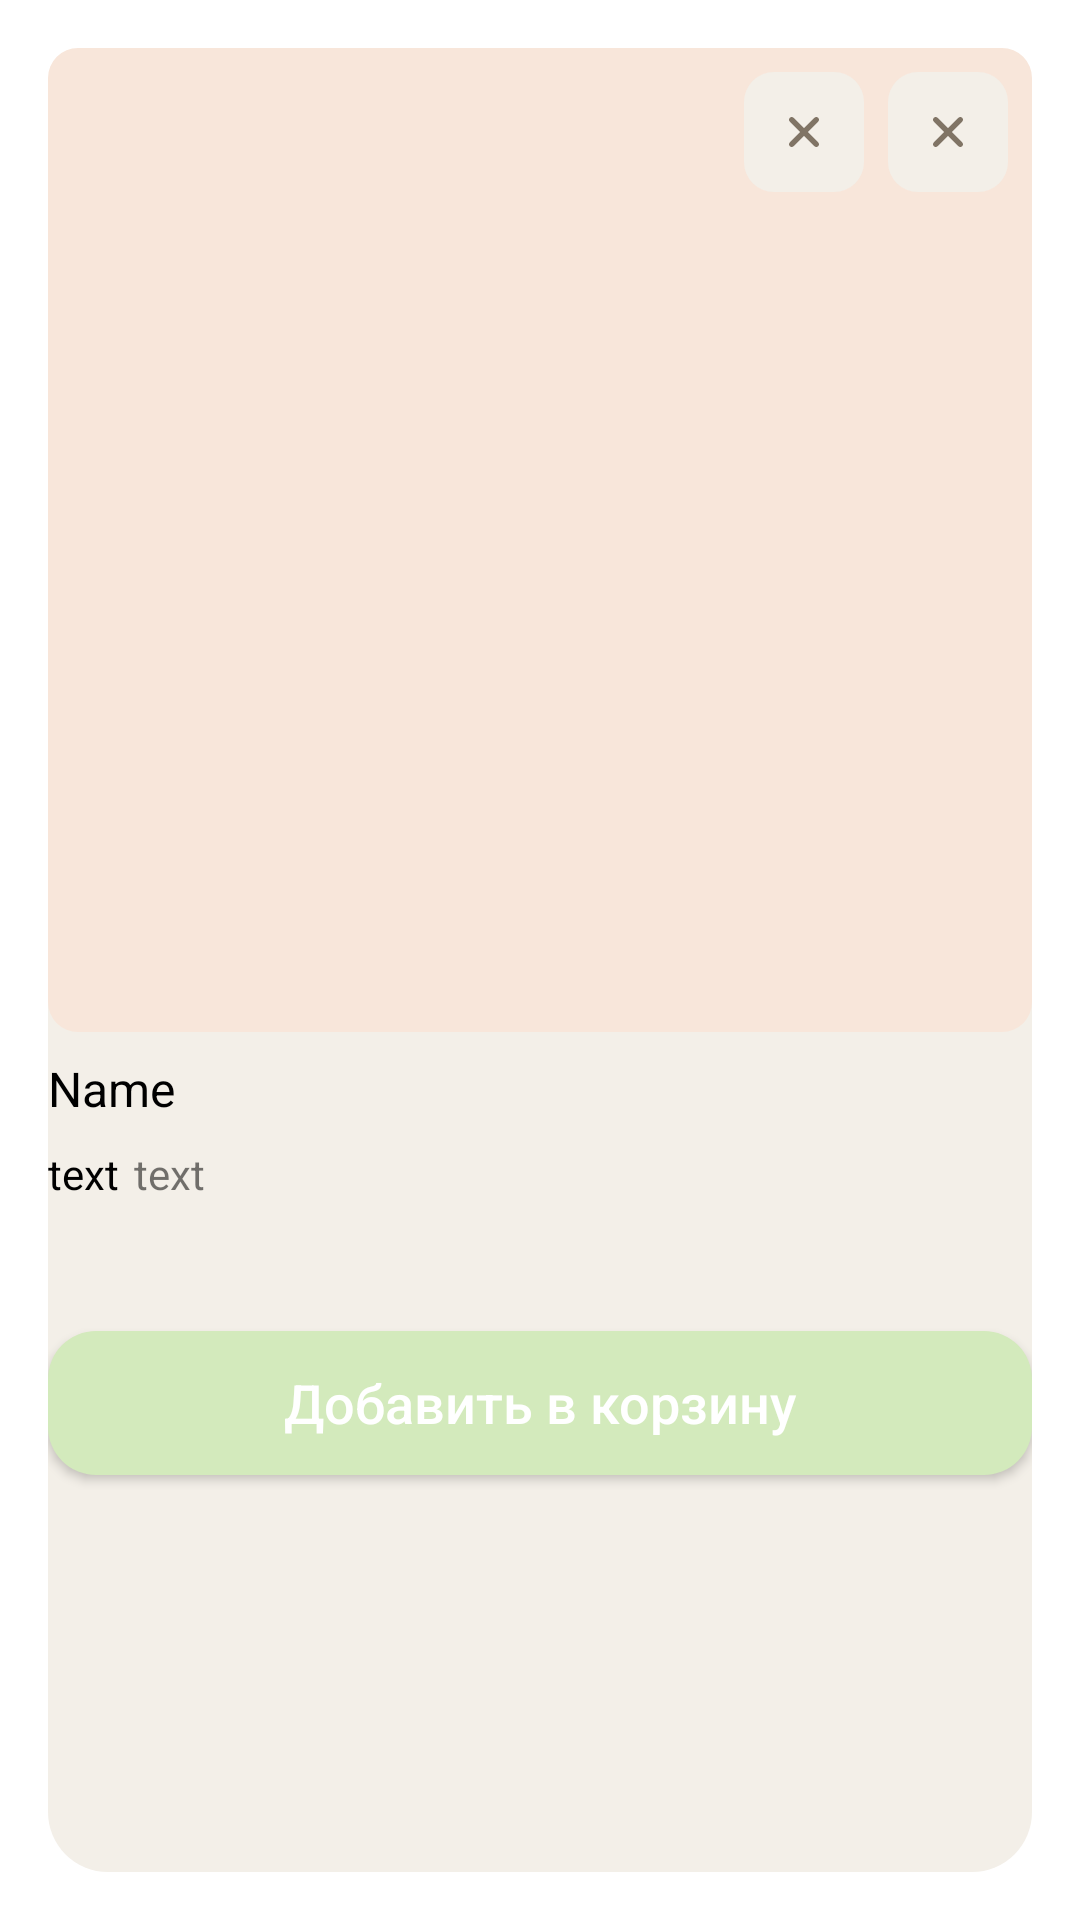

Screen size 1080×1920. Icon name, then its center in pixels as (x,y):
dismiss: (804,132), (948,132)
